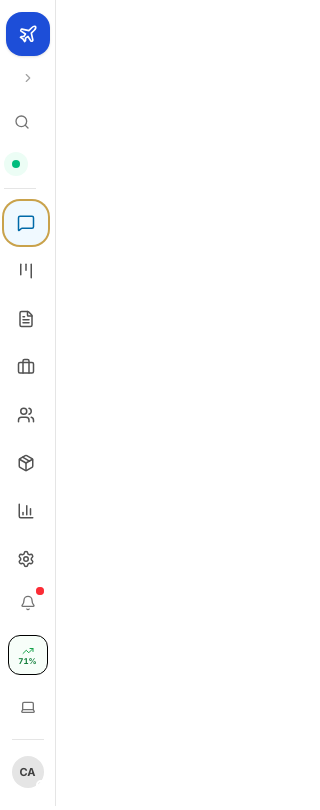
BarraModulos y Selector de Sesión (ADR-0011) › Renderizado y Navegación de Módulos › permite expandir y contraer la barra lateral de escritorio con botón toggle (T-034)
Click the button with test id "boton-toggle-sidebar": (28, 78) [14,64,42,92]
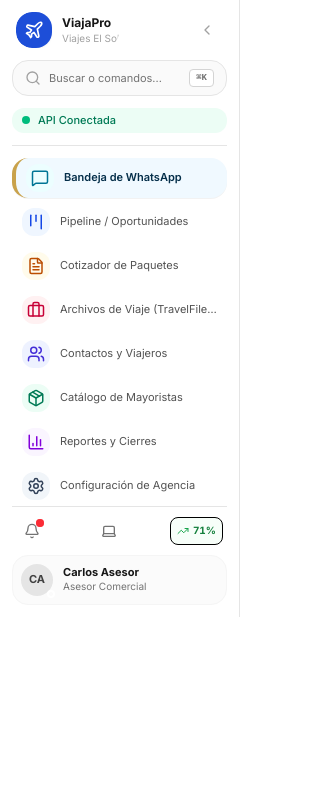
Now the element with test id "sidebar-escritorio" has attribute data-expandida="true", box [0,0,240,616]
Click the button with test id "boton-toggle-sidebar": (207, 30) [191,14,223,46]
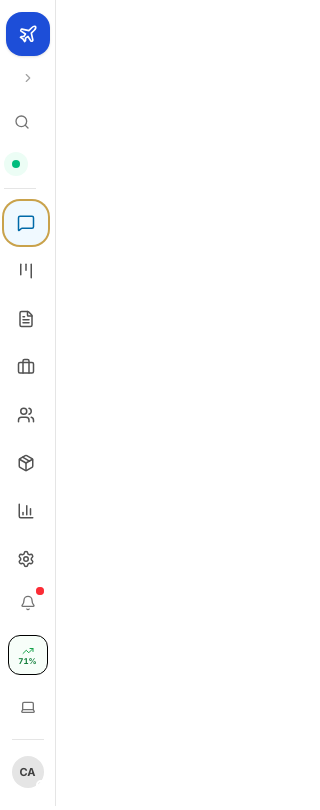
Now the button with test id "boton-toggle-sidebar" is collapsed, box [14,64,42,92]
